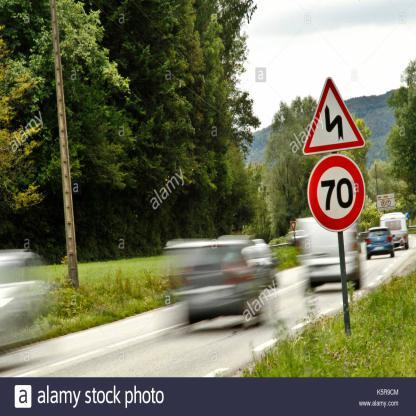Speed Limit 70: (309, 158, 362, 228)
